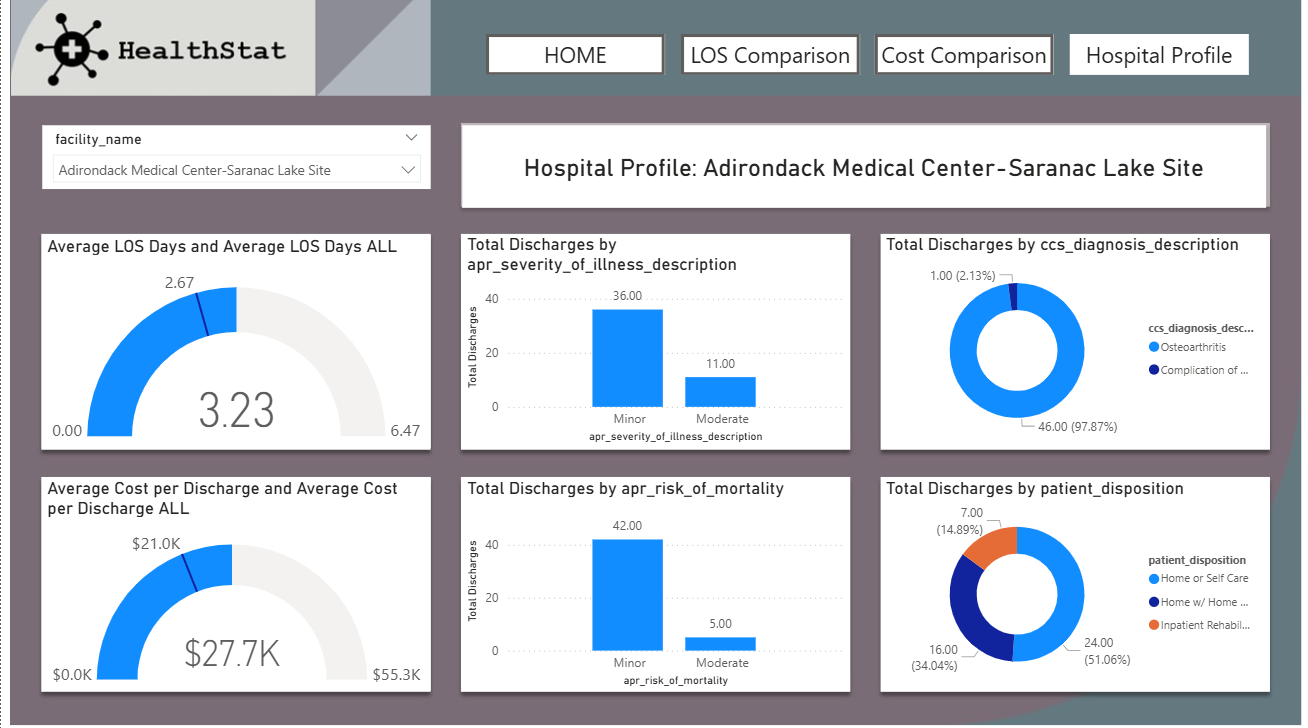

Layout of this report page (visuals, bound fields, positions):
{"tool":"powerbi","page":{"name":"Hospital Profile","canvas":[1280,720],"ordinal":11},"visuals":[{"type":"image","box":[0,0,1280.3,720.4],"z":0},{"type":"card","fields":{"Values":["Measures (2).Title Selected Facility"]},"box":[451.2,128.4,786.3,80.7],"z":1000},{"type":"slicer","fields":{"Values":["hospital_data.facility_name"]},"box":[40.4,128.4,380.3,62.4],"z":2000},{"type":"gauge","fields":{"Y":["Measures (2).Average LOS Days"],"TargetValue":["Measures (2).Average LOS Days ALL"]},"box":[40.4,236,380.3,207.9],"z":3000},{"type":"gauge","fields":{"Y":["Measures (2).Average Cost per Discharge"],"TargetValue":["Measures (2).Average Cost per Discharge ALL"]},"box":[40.4,473.2,380.3,207.9],"z":4000},{"type":"clusteredColumnChart","fields":{"Y":["Measures (2).Total Discharges"],"Category":["hospital_data.apr_severity_of_illness_description"]},"box":[451.2,234.8,377.9,209.1],"z":5000},{"type":"clusteredColumnChart","fields":{"Y":["Measures (2).Total Discharges"],"Category":["hospital_data.apr_risk_of_mortality"]},"box":[451.2,473.2,377.9,209.1],"z":6000},{"type":"donutChart","fields":{"Y":["Measures (2).Total Discharges"],"Category":["hospital_data.ccs_diagnosis_description"]},"box":[860.9,234.8,376.6,209.1],"z":7000},{"type":"donutChart","fields":{"Y":["Measures (2).Total Discharges"],"Category":["hospital_data.patient_disposition"]},"box":[860.9,473.2,376.6,209.1],"z":8000},{"type":"textbox","box":[474.5,39.1,174.9,40.4],"z":9000},{"type":"textbox","box":[855.2,39.1,174.9,40.4],"z":10000},{"type":"textbox","box":[1045.5,39.1,174.9,40.4],"z":11000},{"type":"textbox","box":[664.8,39.1,174.9,40.4],"z":12000},{"type":"actionButton","box":[854.8,39.1,174.9,40.4],"z":13000},{"type":"actionButton","box":[474.5,39.1,174.9,40.4],"z":14000},{"type":"actionButton","box":[665.2,39.1,174.9,40.4],"z":15000}]}

Visuals, with their boxes in screenshot pixels (x1, y1, x2, y2), scaled from the page's 1280x720 canvas onto the 1308x728 screenshot:
image: locate(0, 0, 1307, 727)
card - Measures (2).Title Selected Facility: locate(461, 130, 1265, 211)
slicer - hospital_data.facility_name: locate(41, 130, 430, 193)
gauge - Measures (2).Average LOS Days x Measures (2).Average LOS Days ALL: locate(41, 239, 430, 449)
gauge - Measures (2).Average Cost per Discharge x Measures (2).Average Cost per Discharge ALL: locate(41, 478, 430, 689)
clusteredColumnChart - Measures (2).Total Discharges x hospital_data.apr_severity_of_illness_description: locate(461, 237, 847, 449)
clusteredColumnChart - Measures (2).Total Discharges x hospital_data.apr_risk_of_mortality: locate(461, 478, 847, 690)
donutChart - Measures (2).Total Discharges x hospital_data.ccs_diagnosis_description: locate(880, 237, 1265, 449)
donutChart - Measures (2).Total Discharges x hospital_data.patient_disposition: locate(880, 478, 1265, 690)
textbox: locate(485, 40, 664, 80)
textbox: locate(874, 40, 1053, 80)
textbox: locate(1068, 40, 1247, 80)
textbox: locate(679, 40, 858, 80)
actionButton: locate(873, 40, 1052, 80)
actionButton: locate(485, 40, 664, 80)
actionButton: locate(680, 40, 858, 80)
